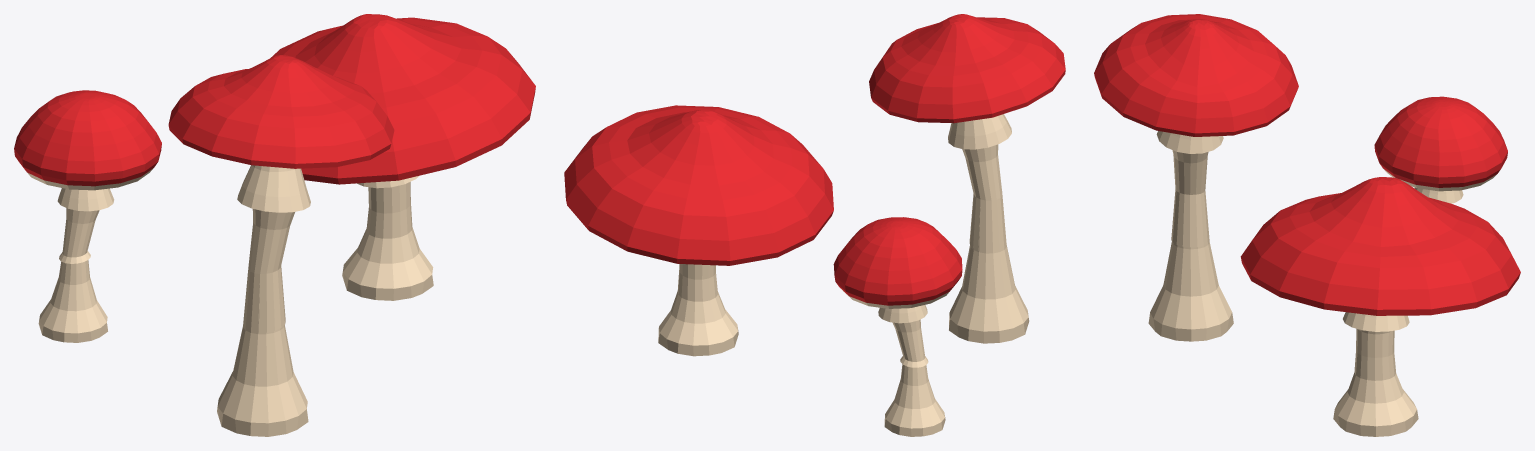
Rendered from mushroomGroup.fbx.
3 renders of one model, left to right at view 1: azimuth 30°, elevation 25°; view 2: azimuth 150°, elevation 25°; view 3: azimuth 270°, elevation 25°, orthographic. The views are drawn at different scales.
Parts seen in each view (by area): view 1: Mushroom.001, Mushroom, Mushroom.002; view 2: Mushroom, Mushroom.001, Mushroom.002; view 3: Mushroom, Mushroom.001, Mushroom.002.
Boxes of the visible parts, x1,y1,x2,y2 form: Mushroom.001: [168, 55, 394, 436]; Mushroom: [271, 14, 535, 300]; Mushroom.002: [14, 90, 161, 342]; Mushroom: [564, 105, 833, 356]; Mushroom.001: [869, 14, 1065, 343]; Mushroom.002: [833, 217, 962, 436]; Mushroom: [1240, 177, 1520, 436]; Mushroom.001: [1094, 14, 1298, 341]; Mushroom.002: [1374, 96, 1507, 203].
Size of the model in its own units: 6.26 by 4.63 by 5.6.
